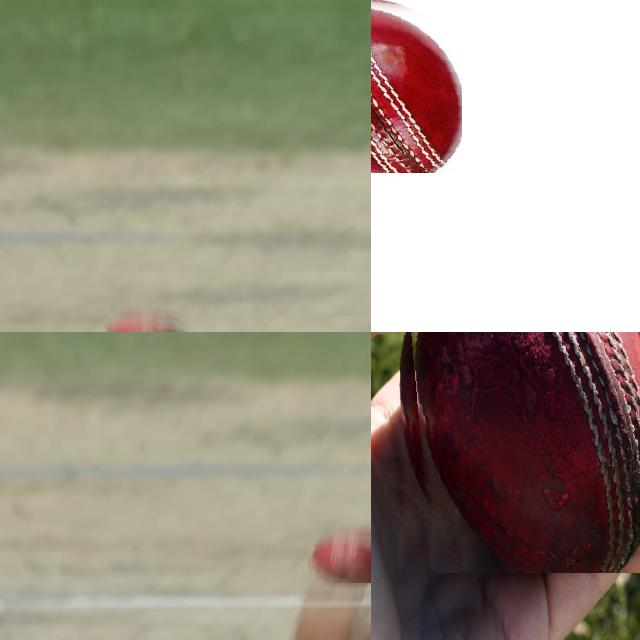Cricket ball: (399, 332, 640, 572), (371, 0, 461, 173), (307, 529, 371, 583), (98, 311, 189, 332)
